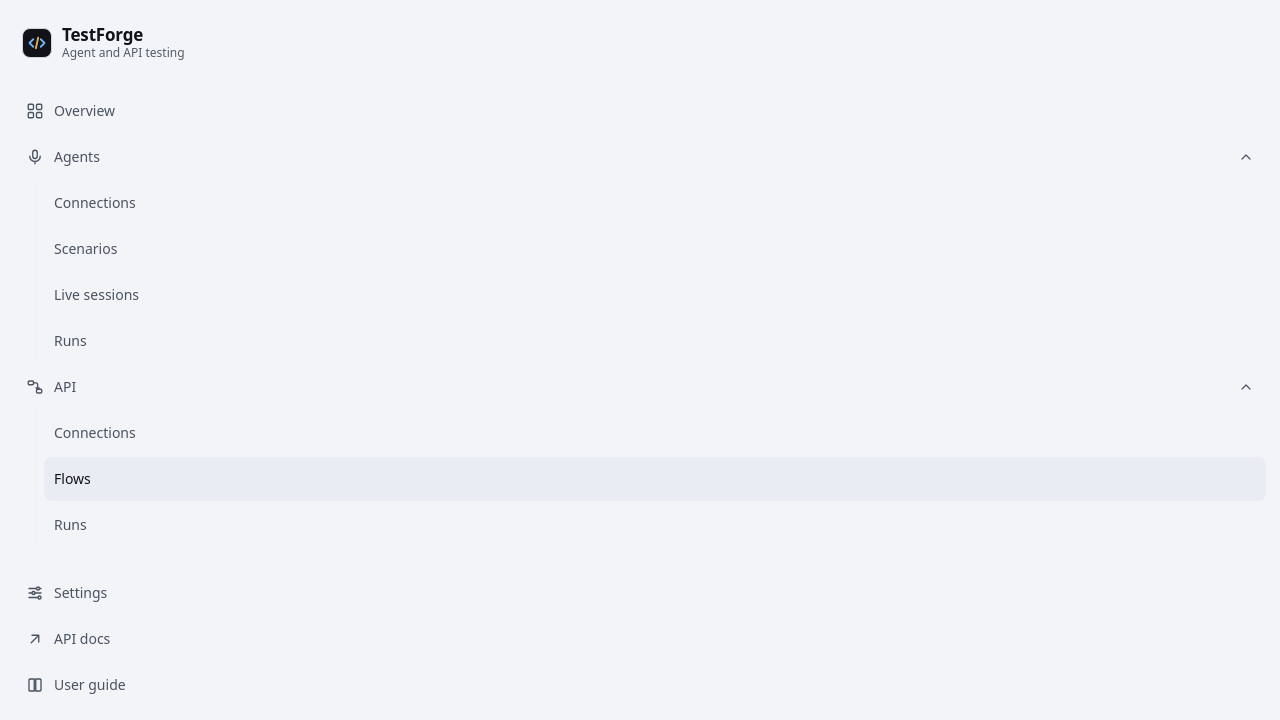
Sidebar › marks a collapsed group that holds the current page
What coordinates should you click on to do the following:
click the button "API"
I would click on:
 (35, 387)
Its box is [14, 365, 1266, 409].
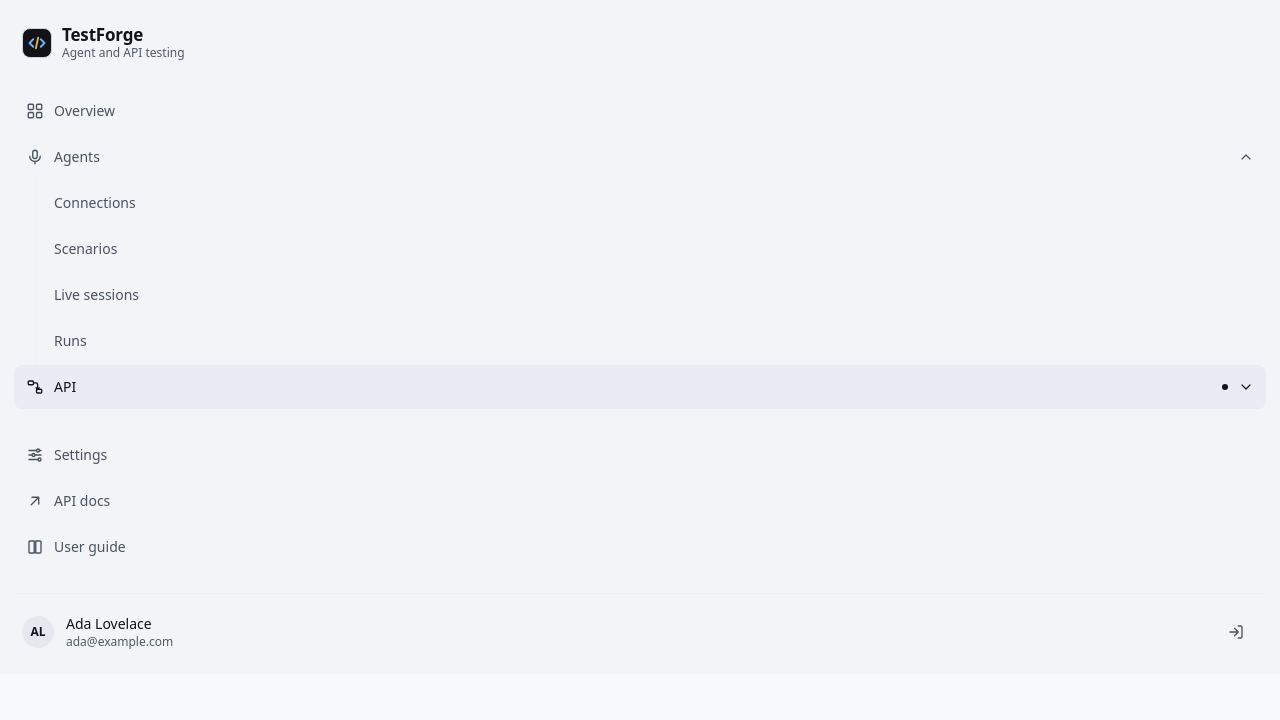
expect the button "API" is collapsed: met, box [14, 365, 1266, 409]
